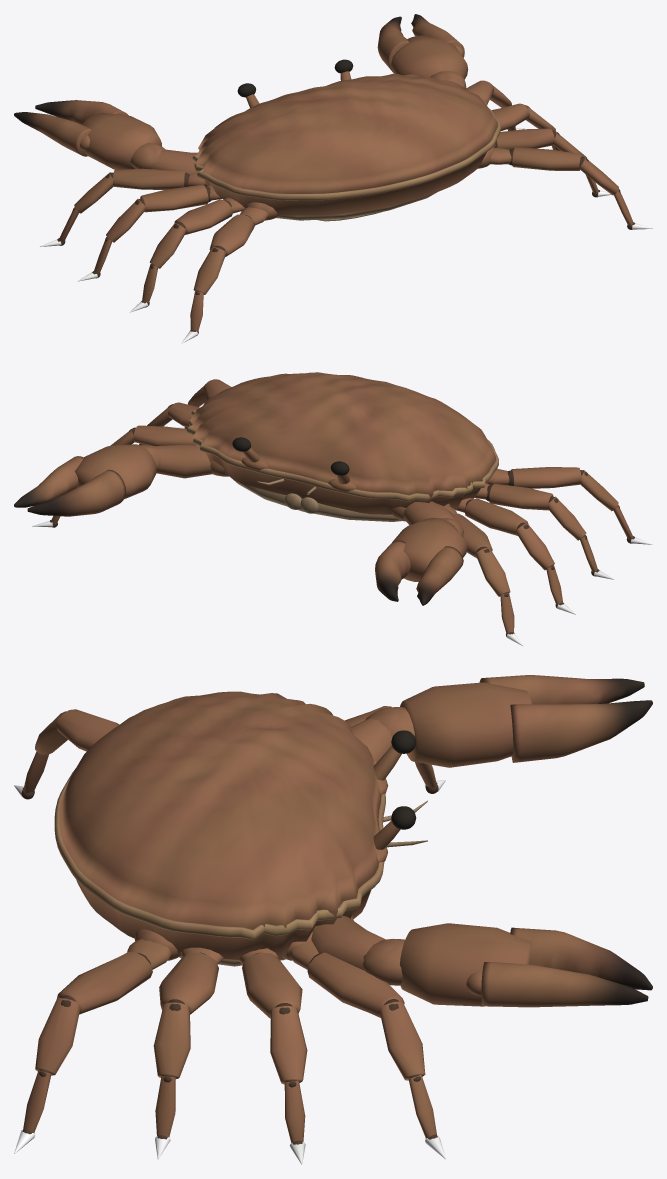
Rendered from CustomCrab-anatomy1.fbx.
3 views of the same model, one above another, from view 1: azimuth 30°, elevation 25°; view 2: azimuth 150°, elevation 25°; view 3: azimuth 270°, elevation 25° (orthographic). The views are drawn at different scales.
Parts seen in each view (by area): view 1: CarapacePart / surface 0, Claw_LPart / surface 0, Claw_RPart / surface 0, Leg_L_3Part / surface 0, Leg_R_3Part / surface 0, Leg_L_0Part / surface 0, CarapacePart / surface 5, Leg_L_2Part / surface 0, Leg_L_1Part / surface 0, Claw_LPart / DactylHinge / surface 0, Leg_R_2Part / surface 0, Leg_R_1Part / surface 0 (+4 smaller); view 2: CarapacePart / surface 0, Claw_RPart / surface 0, Claw_LPart / surface 0, Leg_L_1Part / surface 0, Leg_L_3Part / surface 0, Leg_L_2Part / surface 0, CarapacePart / surface 5, Leg_L_0Part / surface 0, BodyCore | protected fixed mounts / surface 1, Claw_RPart / DactylHinge / surface 0, Claw_LPart / DactylHinge / surface 0, Leg_R_1Part / surface 0 (+4 smaller); view 3: CarapacePart / surface 0, Claw_LPart / surface 0, Claw_RPart / surface 0, Leg_R_3Part / surface 0, Leg_R_0Part / surface 0, Leg_R_1Part / surface 0, Leg_R_2Part / surface 0, Claw_RPart / DactylHinge / surface 0, CarapacePart / surface 5, Claw_LPart / DactylHinge / surface 0, Leg_L_3Part / surface 0, BodyCore | protected fixed mounts / surface 0 (+1 smaller).
Boxes of the visible parts, x1,y1,x2,y2 form: CarapacePart / surface 0: [195, 73, 497, 215]; Claw_LPart / surface 0: [35, 100, 198, 174]; Claw_RPart / surface 0: [377, 16, 468, 89]; Leg_L_3Part / surface 0: [190, 207, 268, 331]; Leg_R_3Part / surface 0: [489, 147, 633, 225]; Leg_L_0Part / surface 0: [59, 168, 207, 242]; CarapacePart / surface 5: [192, 102, 500, 200]; Leg_L_2Part / surface 0: [142, 197, 244, 303]; Leg_L_1Part / surface 0: [94, 184, 221, 274]; Claw_LPart / DactylHinge / surface 0: [14, 112, 91, 156]; Leg_R_2Part / surface 0: [493, 128, 598, 193]; Leg_R_1Part / surface 0: [492, 103, 560, 150]; CarapacePart / surface 0: [189, 372, 495, 514]; Claw_RPart / surface 0: [27, 444, 212, 516]; Claw_LPart / surface 0: [375, 501, 467, 601]; Leg_L_1Part / surface 0: [455, 498, 562, 604]; Leg_L_3Part / surface 0: [488, 467, 632, 540]; Leg_L_2Part / surface 0: [475, 483, 597, 572]; CarapacePart / surface 5: [186, 410, 498, 501]; Leg_L_0Part / surface 0: [443, 506, 514, 633]; BodyCore | protected fixed mounts / surface 1: [231, 478, 401, 521]; Claw_RPart / DactylHinge / surface 0: [14, 456, 83, 507]; Claw_LPart / DactylHinge / surface 0: [416, 546, 463, 605]; Leg_R_1Part / surface 0: [111, 425, 195, 445]; CarapacePart / surface 0: [59, 691, 381, 959]; Claw_LPart / surface 0: [351, 682, 652, 767]; Claw_RPart / surface 0: [311, 916, 652, 1006]; Leg_R_3Part / surface 0: [23, 939, 171, 1132]; Leg_R_0Part / surface 0: [289, 940, 436, 1138]; Leg_R_1Part / surface 0: [238, 948, 307, 1142]; Leg_R_2Part / surface 0: [153, 947, 223, 1137]; Claw_RPart / DactylHinge / surface 0: [481, 962, 648, 1007]; CarapacePart / surface 5: [54, 739, 385, 940]; Claw_LPart / DactylHinge / surface 0: [479, 675, 644, 704]; Leg_L_3Part / surface 0: [23, 709, 119, 792]; BodyCore | protected fixed mounts / surface 0: [134, 745, 401, 960].
Bounding box in the file's own units: 411 × 112 × 284.
